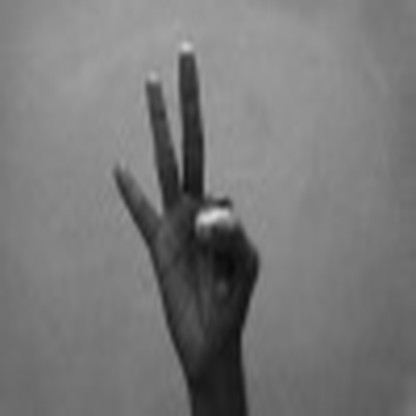f: (91, 35, 269, 369)
